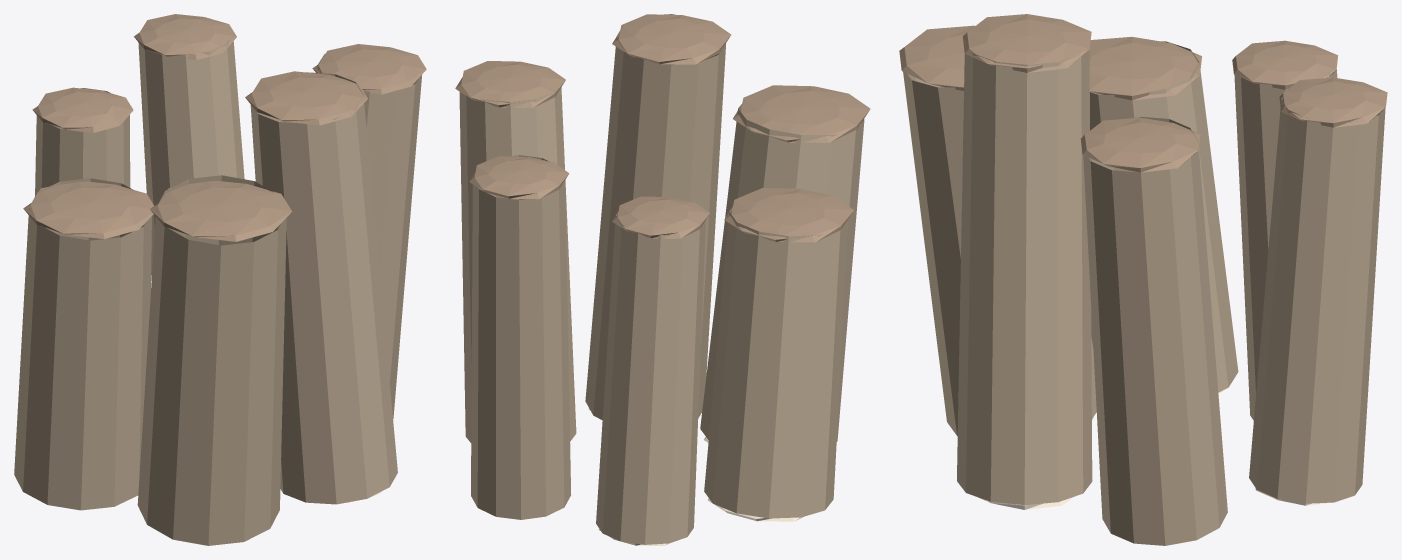
File: sandalwood.glb
The picture shows the model from 3 angles, left to right: view 1: azimuth 30°, elevation 25°; view 2: azimuth 150°, elevation 25°; view 3: azimuth 270°, elevation 25°; orthographic projection. The views are drawn at different scales.
Parts seen in each view (by area): view 1: sandalwood; view 2: sandalwood; view 3: sandalwood.
Boxes of the visible parts, x1=… form: sandalwood: x1=14, y1=14, x2=426, y2=545; sandalwood: x1=455, y1=14, x2=870, y2=545; sandalwood: x1=899, y1=14, x2=1387, y2=545.
Size of the model in its own units: 0.8443 by 0.8371 by 0.8423.
